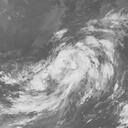cyclone: (38, 36, 115, 101)
